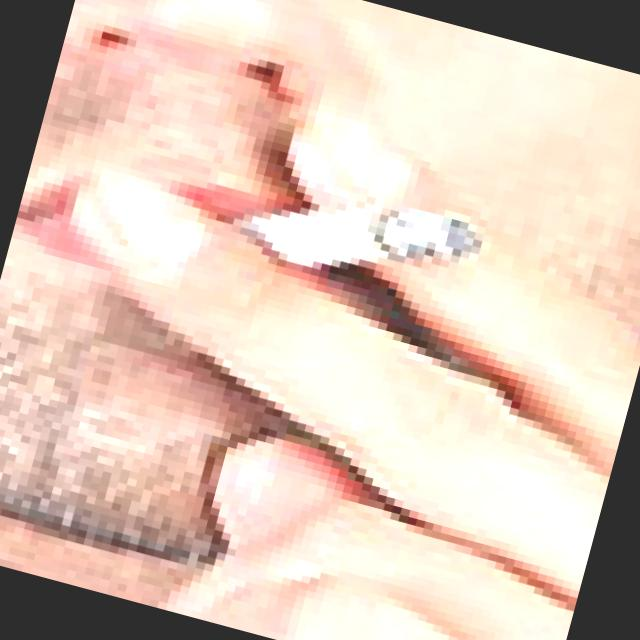cigarette: (192, 151, 493, 332)
